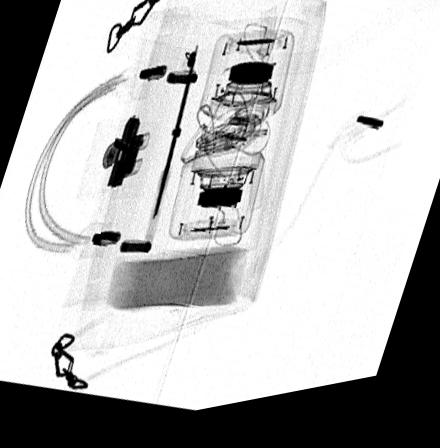Scissors: (140, 51, 199, 249)
